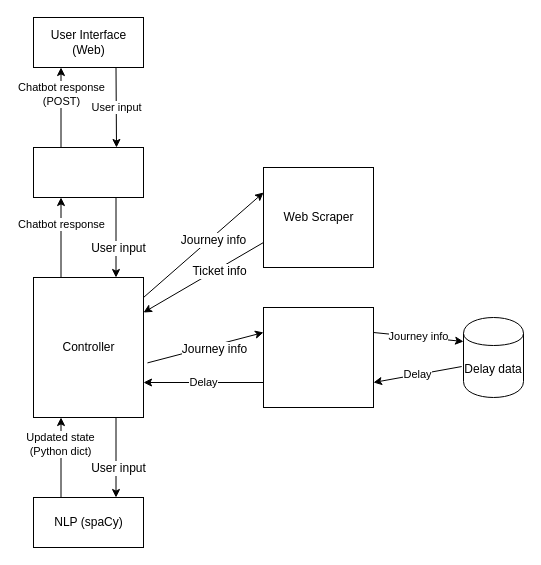
Image size: 541x565. Some labels were removed from this diagram. The box of each missing label's shape, as (x1, y1, x2, y2) in pixels:
Delay Predictor: (262, 306, 374, 408)
Flask Server: (32, 146, 144, 198)
